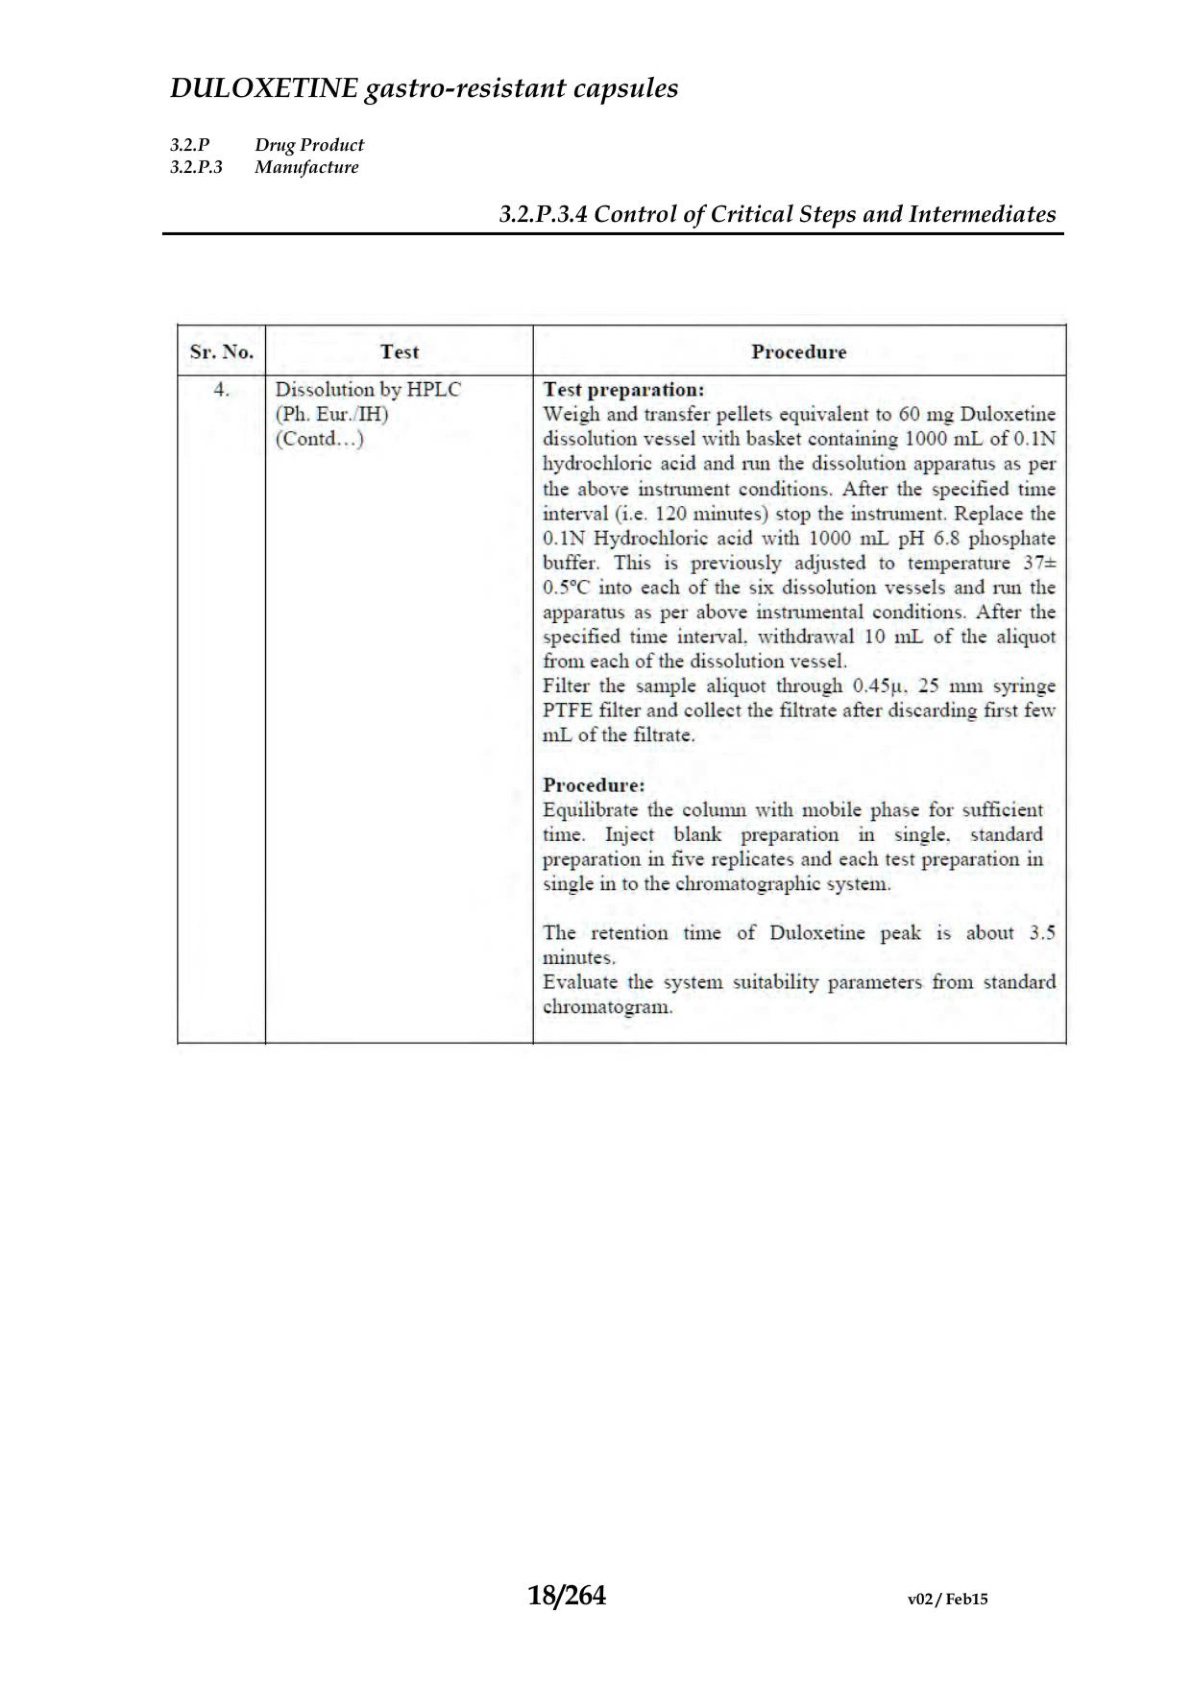full_lined: (175, 323, 1068, 1045)
